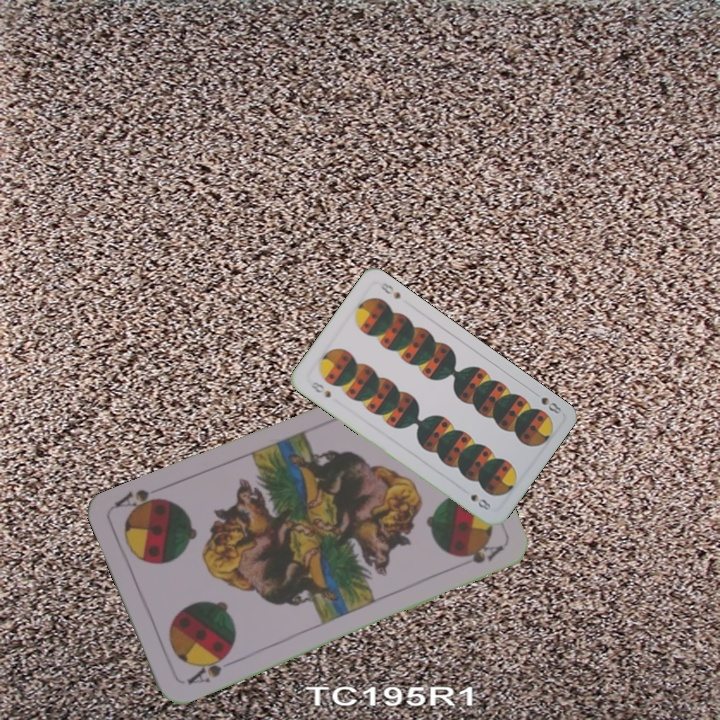S8: (528, 387, 564, 417), (306, 377, 334, 400)
SA: (183, 648, 233, 687)
